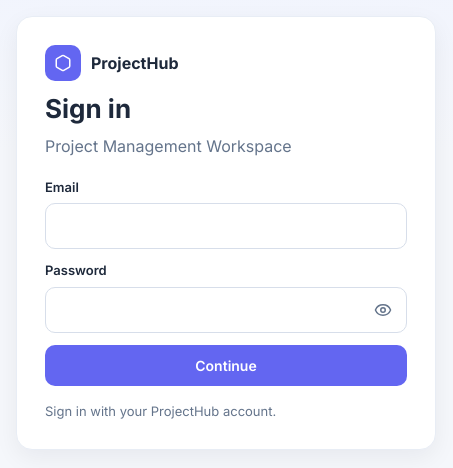
Test: toggles password visibility without changing the value or submitting
In the password field labelled "Password": (226, 310) top-left (45, 287), bottom-right (407, 333), type "SecretValue"
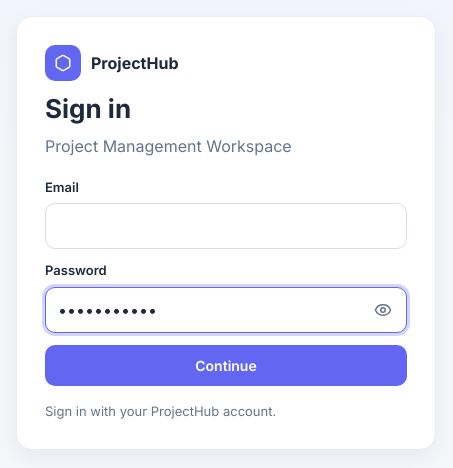
Click the button named "Show password": (383, 310) top-left (367, 294), bottom-right (399, 326)
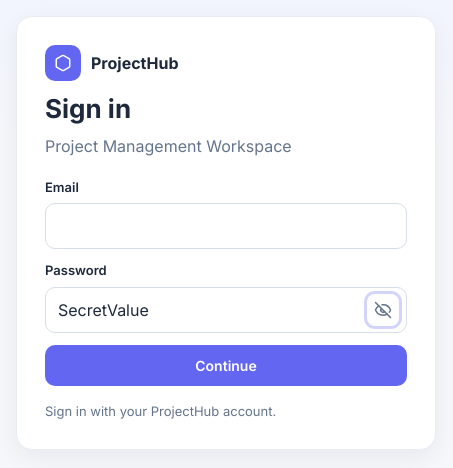
Now the field labelled "Password" shows its text, box top-left (45, 287), bottom-right (407, 333)
Click the button named "Hide password": (383, 310) top-left (367, 294), bottom-right (399, 326)
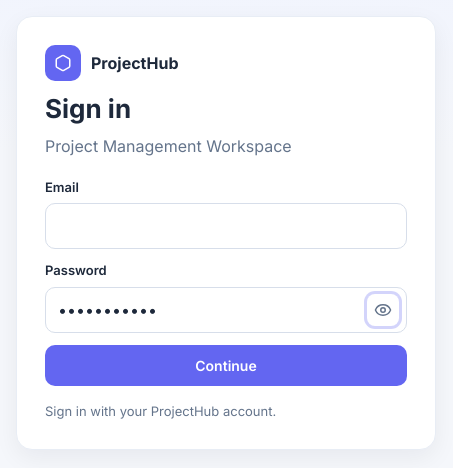
Expected: the button "Continue" is shown, top-left (45, 345), bottom-right (407, 386)
Now the password field labelled "Password" hides its text, box top-left (45, 287), bottom-right (407, 333)
